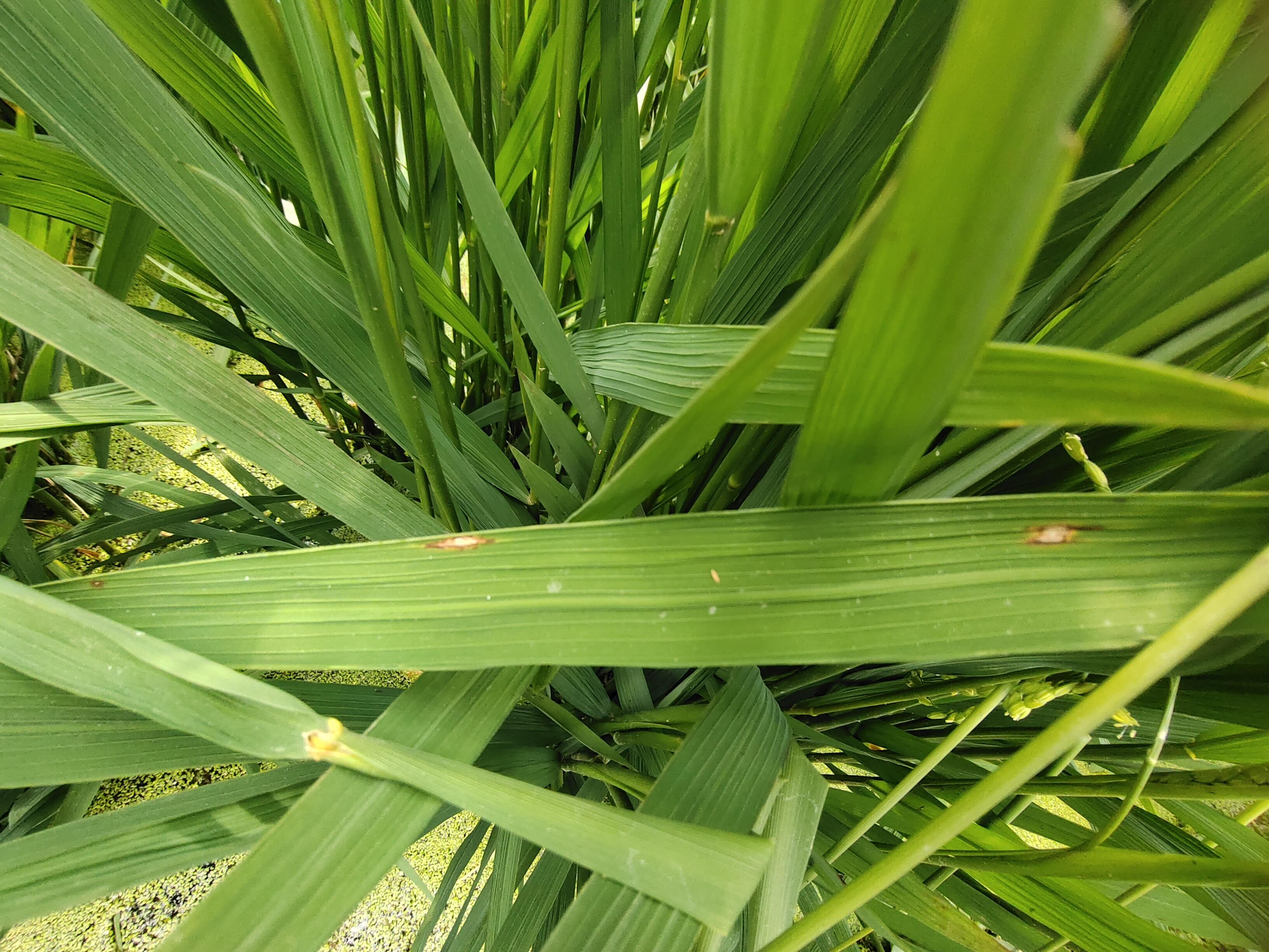LEAF: (44, 492, 1269, 670)
LEAF BLAST: (1016, 520, 1105, 549), (413, 534, 497, 551), (89, 579, 108, 588)
